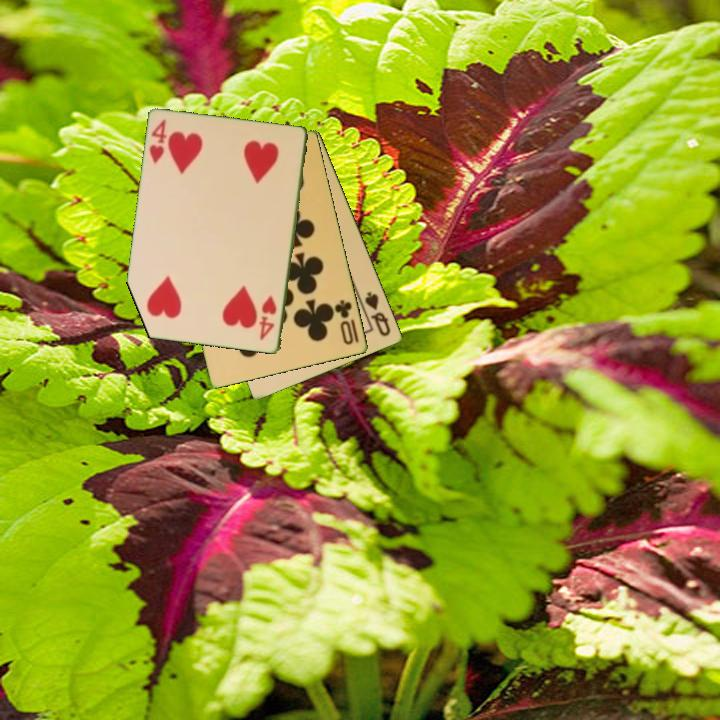10c: (331, 296, 362, 348)
4h: (146, 116, 170, 166), (257, 292, 280, 343)
Qs: (362, 288, 394, 339)
